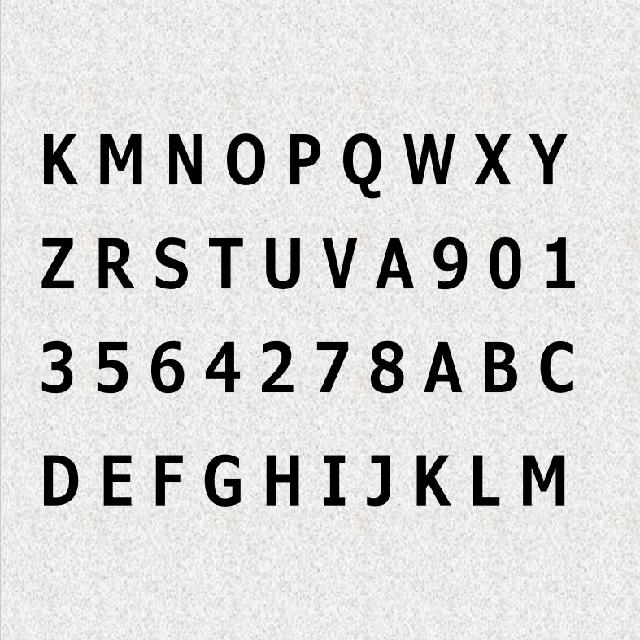0: (41, 452, 78, 512), (488, 235, 520, 294)
1: (543, 226, 577, 290)
2: (261, 334, 296, 396)
3: (40, 335, 74, 396)
4: (376, 233, 414, 296), (264, 447, 302, 510), (204, 334, 240, 394)
5: (95, 336, 128, 397)
6: (148, 331, 184, 396)
7: (314, 337, 350, 396)
8: (369, 338, 404, 396)
9: (432, 234, 469, 297)
A: (421, 334, 460, 395)
B: (484, 338, 518, 394)
C: (540, 335, 577, 397)
K: (40, 126, 80, 190)
L: (470, 443, 502, 509)
M: (521, 448, 570, 512), (99, 126, 147, 190)
N: (168, 126, 208, 190)
P: (285, 131, 320, 191)
R: (96, 237, 131, 294)
S: (154, 235, 189, 295)
T: (209, 232, 246, 294), (321, 446, 349, 510)
U: (265, 231, 302, 293)
W: (402, 128, 458, 186)
X: (474, 128, 514, 190)
Y: (526, 125, 568, 187)
